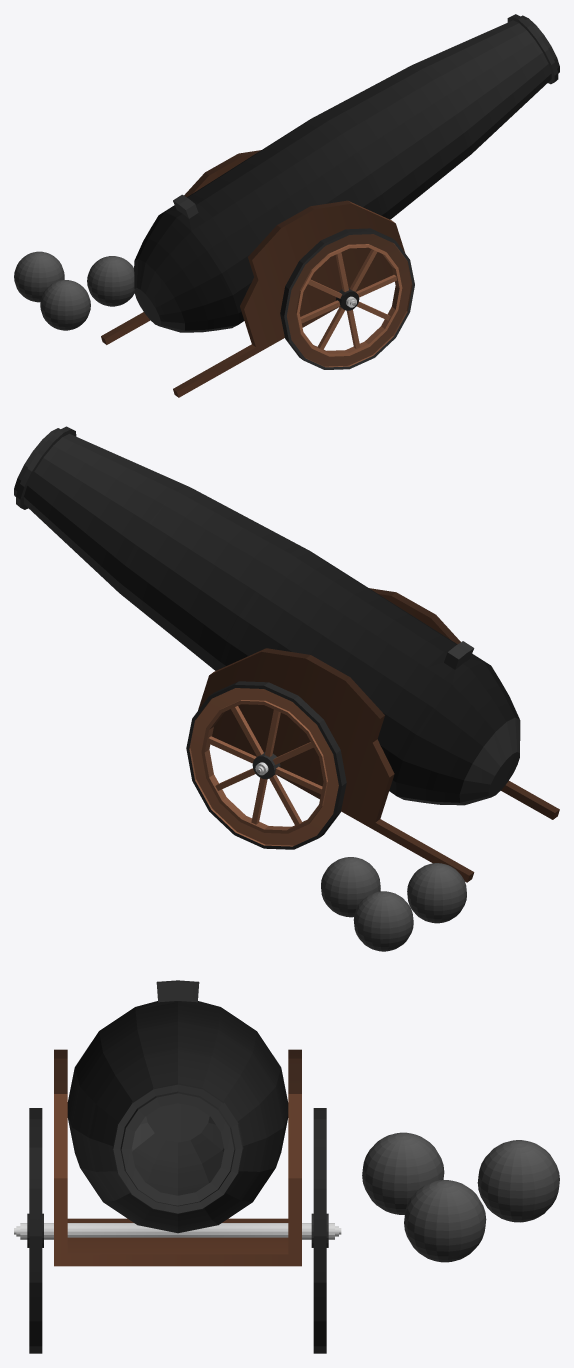
The model's file is cannon.fbx.
3 views of the same model, one above another, from view 1: azimuth 30°, elevation 25°; view 2: azimuth 150°, elevation 25°; view 3: azimuth 270°, elevation 25° (orthographic). The views are drawn at different scales.
Parts seen in each view (by area): view 1: Cylinder.020, Sphere; view 2: Cylinder.020, Sphere; view 3: Cylinder.020, Sphere.
Boxes of the visible parts, left/top/right/bottom form: Cylinder.020: left=101, top=14, right=559, bottom=397; Sphere: left=14, top=251, right=134, bottom=330; Cylinder.020: left=14, top=426, right=559, bottom=882; Sphere: left=321, top=857, right=466, bottom=951; Cylinder.020: left=14, top=980, right=341, bottom=1353; Sphere: left=362, top=1132, right=559, bottom=1262.
Bounding box in the file's own units: 101 × 58.57 × 66.73.
